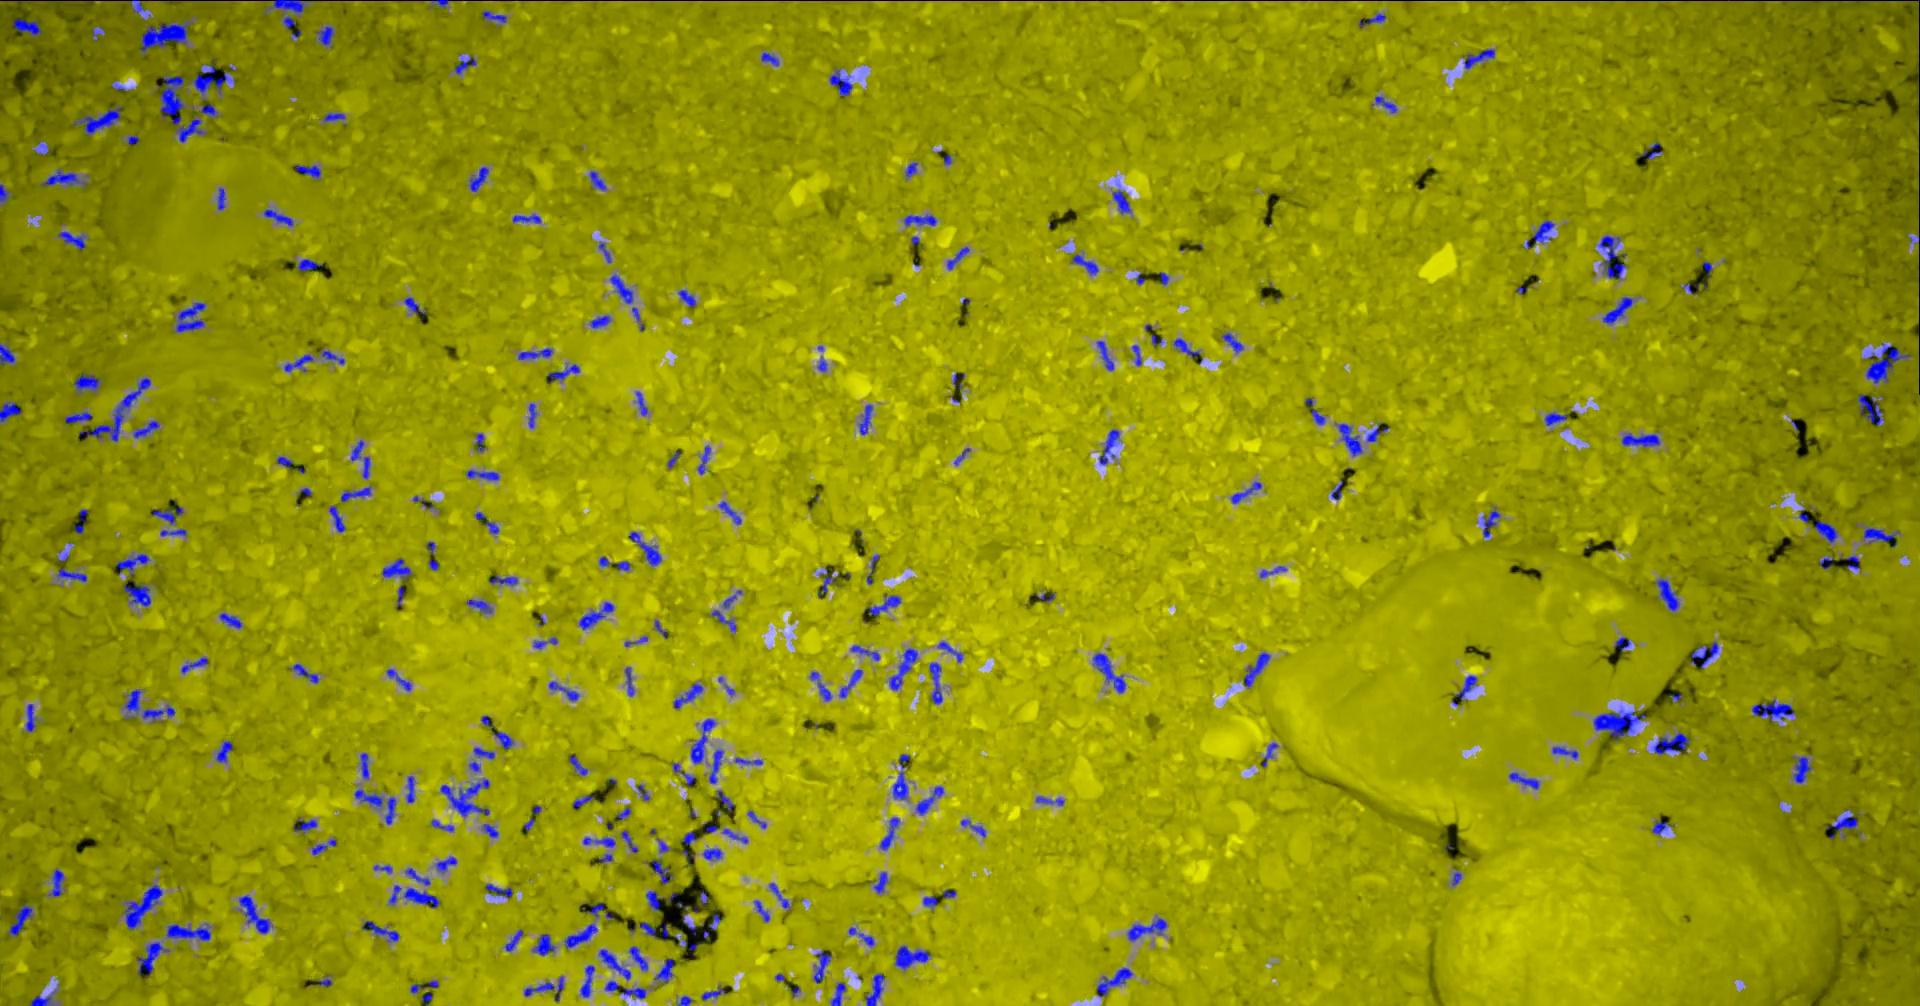ant: (80, 377, 152, 441), (161, 75, 206, 142), (441, 779, 491, 815), (1867, 343, 1912, 384), (124, 884, 164, 929), (141, 20, 192, 55), (1595, 709, 1647, 741), (126, 688, 177, 720), (193, 58, 236, 94), (356, 789, 397, 824), (74, 105, 122, 135), (1095, 652, 1128, 692), (240, 894, 272, 934), (890, 648, 919, 690), (1600, 235, 1628, 278), (270, 0, 312, 28), (692, 718, 717, 763), (630, 531, 663, 565), (390, 885, 441, 907), (138, 941, 170, 976), (1098, 967, 1134, 996), (524, 976, 565, 1001), (599, 949, 632, 979), (1244, 652, 1272, 686), (582, 601, 615, 629), (1129, 917, 1168, 940), (177, 302, 207, 332), (1752, 700, 1796, 720), (897, 945, 932, 969), (917, 785, 945, 815), (1604, 296, 1636, 323), (1858, 394, 1884, 426), (1655, 730, 1691, 753), (1657, 578, 1681, 611), (9, 903, 33, 936), (566, 923, 599, 948), (363, 920, 400, 941), (117, 553, 151, 575), (1528, 220, 1556, 248), (1340, 423, 1364, 455), (42, 169, 88, 185), (894, 753, 910, 799), (1691, 641, 1719, 668), (1100, 429, 1121, 464), (168, 923, 212, 940), (352, 439, 371, 478), (869, 593, 902, 615), (124, 580, 152, 606), (1232, 481, 1263, 503), (830, 69, 855, 97), (676, 683, 703, 708), (611, 274, 634, 304), (383, 558, 413, 580), (678, 901, 697, 935), (631, 921, 670, 937), (881, 817, 902, 848), (866, 973, 886, 1005), (841, 669, 863, 697), (811, 671, 833, 700), (549, 363, 582, 382), (152, 506, 185, 525), (1465, 48, 1496, 69), (819, 567, 839, 597), (290, 663, 320, 683), (550, 681, 582, 700), (815, 950, 833, 983), (14, 18, 44, 37), (1455, 674, 1478, 700), (1305, 398, 1327, 424), (949, 246, 971, 271), (720, 500, 743, 525), (476, 511, 500, 533), (712, 608, 737, 631), (653, 857, 674, 883), (1073, 254, 1100, 274), (1484, 507, 1502, 537), (1865, 527, 1901, 542), (75, 373, 103, 392), (1510, 772, 1542, 789), (1816, 520, 1839, 542), (389, 668, 413, 690), (265, 208, 295, 226), (58, 231, 88, 249), (938, 641, 964, 662), (931, 662, 943, 702), (1175, 338, 1201, 357), (710, 749, 725, 782), (674, 763, 697, 785), (535, 934, 557, 955), (655, 958, 676, 982), (1623, 433, 1661, 446), (1827, 815, 1859, 831), (771, 882, 790, 907), (850, 926, 875, 945), (1098, 340, 1115, 370), (284, 354, 314, 371), (852, 644, 881, 661), (135, 420, 161, 438), (1796, 756, 1813, 782), (182, 657, 210, 673), (471, 166, 490, 191), (703, 913, 723, 937), (406, 868, 432, 885), (582, 965, 596, 997), (330, 506, 347, 532), (1223, 332, 1244, 352), (519, 347, 554, 359), (505, 929, 524, 951), (1114, 189, 1131, 213), (631, 946, 649, 970), (860, 404, 874, 434), (342, 486, 372, 500), (50, 868, 65, 895), (1, 401, 22, 422), (698, 445, 712, 474), (58, 567, 88, 580), (30, 989, 57, 1005), (1639, 142, 1663, 159), (963, 819, 987, 836), (295, 164, 323, 178), (869, 554, 881, 584), (495, 730, 516, 749), (1263, 742, 1279, 767), (570, 754, 589, 775), (717, 790, 737, 810), (724, 828, 749, 843), (312, 838, 338, 854), (317, 25, 335, 47), (456, 56, 477, 74), (405, 296, 427, 314), (905, 213, 938, 225), (295, 817, 317, 833), (623, 829, 640, 852), (488, 883, 514, 897), (469, 469, 500, 480), (1377, 95, 1398, 112), (217, 741, 234, 762), (437, 856, 458, 873), (411, 981, 439, 993), (1368, 426, 1390, 441), (832, 982, 847, 1005), (703, 984, 726, 1000), (1360, 13, 1387, 25), (590, 170, 608, 189), (298, 258, 325, 271), (1545, 412, 1570, 426), (469, 600, 493, 614), (1554, 746, 1578, 760), (584, 837, 617, 847), (1, 343, 17, 365), (221, 612, 243, 627), (756, 899, 771, 921), (66, 412, 94, 423), (201, 99, 218, 117), (749, 810, 767, 828), (626, 666, 636, 696), (76, 509, 89, 533), (1261, 565, 1288, 577), (621, 987, 648, 998), (875, 871, 889, 893), (679, 290, 697, 306), (483, 10, 508, 22), (323, 351, 345, 363), (648, 890, 663, 909), (514, 213, 542, 224), (1841, 555, 1862, 569), (27, 702, 37, 730), (637, 391, 649, 415), (535, 636, 559, 648), (574, 794, 596, 807), (599, 243, 613, 262), (1653, 821, 1672, 835), (432, 819, 455, 831), (491, 575, 519, 584), (1037, 796, 1065, 805), (588, 902, 606, 916), (590, 315, 612, 326), (475, 747, 497, 758), (1332, 480, 1345, 499), (408, 775, 417, 801), (324, 111, 347, 121), (1617, 636, 1632, 652), (763, 52, 780, 66), (484, 823, 500, 837), (683, 831, 700, 845), (703, 848, 723, 860), (530, 403, 538, 427), (1, 183, 11, 203), (218, 187, 227, 210), (669, 450, 681, 467), (362, 752, 370, 779), (131, 0, 146, 13), (1133, 345, 1143, 365), (278, 456, 295, 467), (476, 433, 486, 451), (907, 163, 919, 177), (737, 757, 764, 763), (161, 528, 188, 535), (678, 995, 695, 1005), (924, 895, 938, 907), (1820, 558, 1834, 568), (432, 0, 450, 8), (606, 981, 621, 989), (44, 0, 95, 1)
